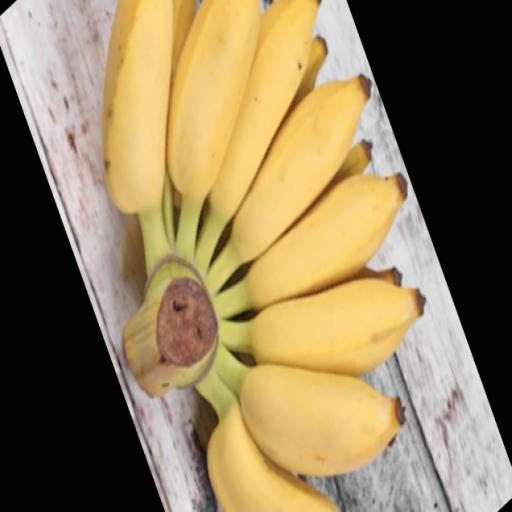banana-ripe: (75, 0, 443, 512)
